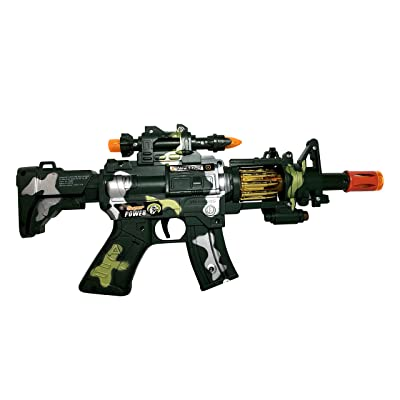Arma Falsa: (13, 120, 386, 301)
